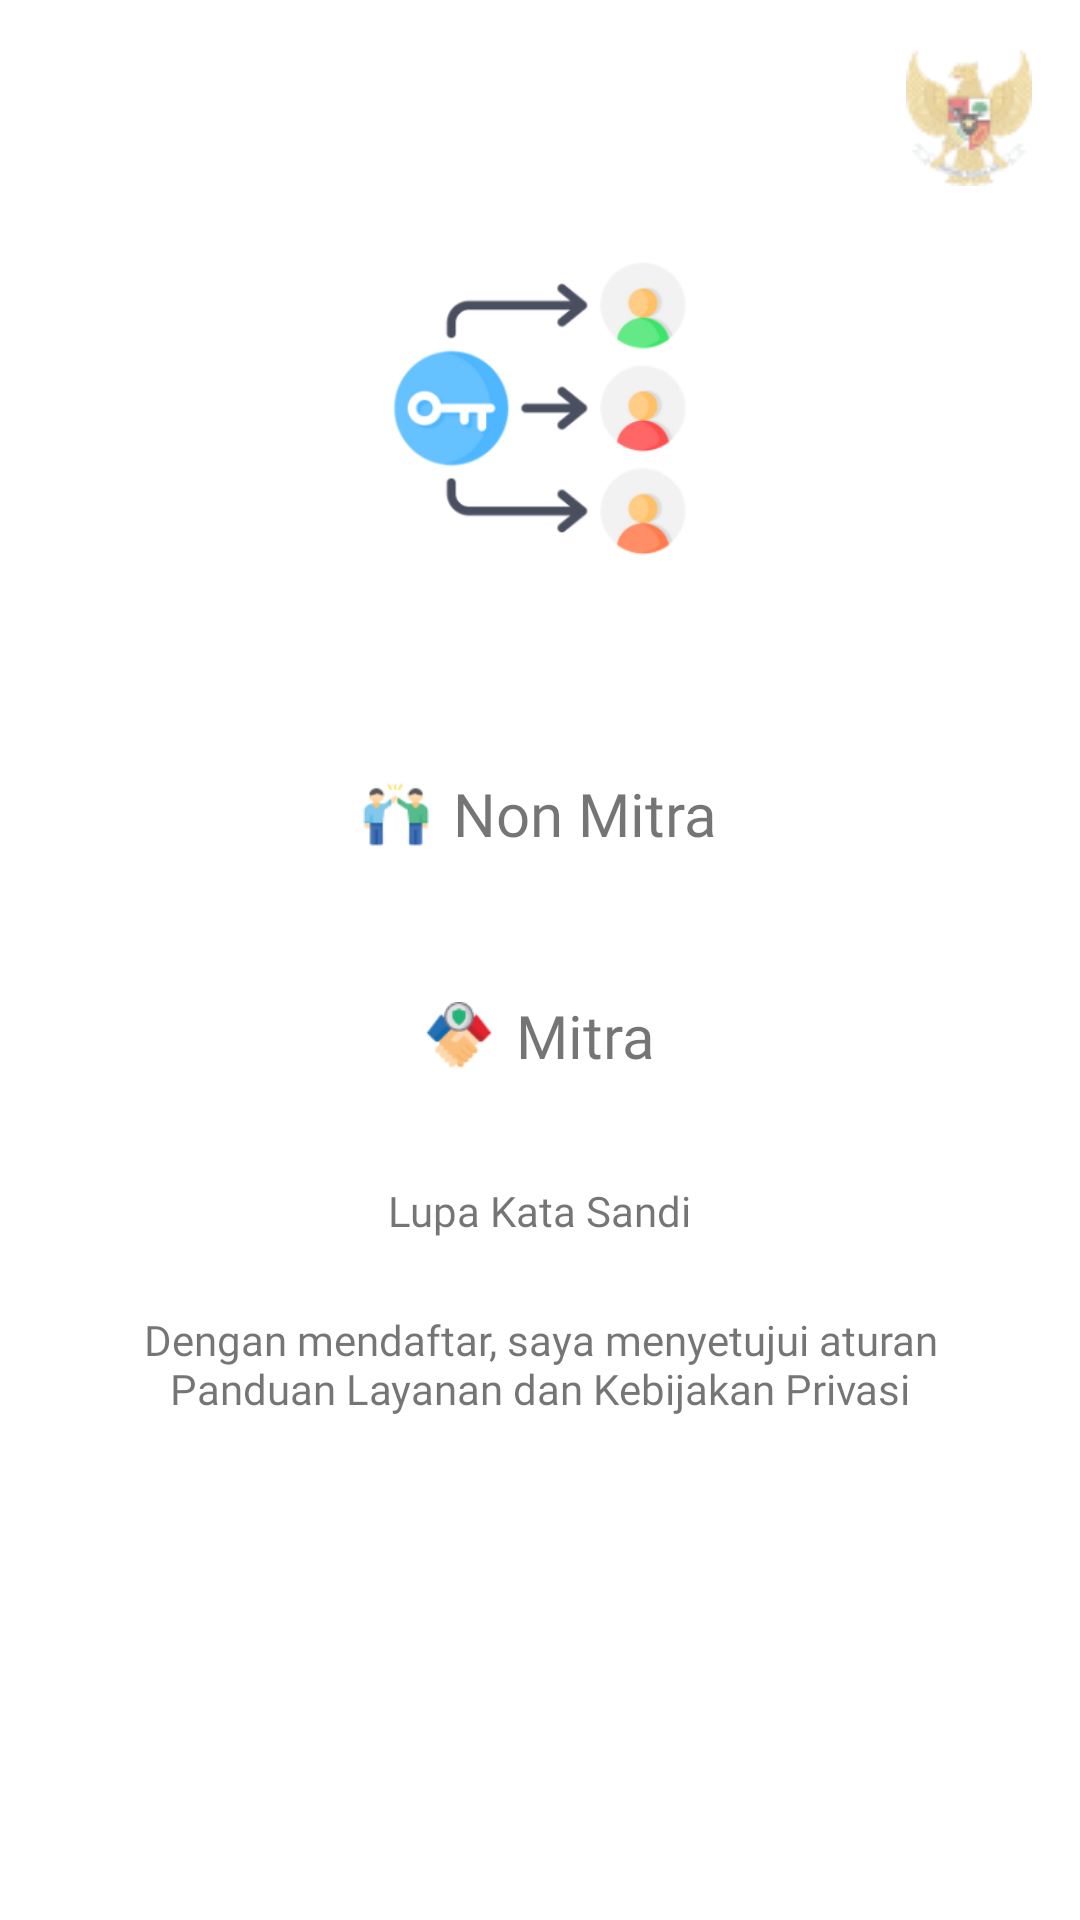

Where icons sit on this 1080w x 1920h app screen, as bbox=[x1, y1, x2, y2]:
benner login: bbox=[394, 283, 672, 555]
